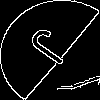J: (25, 25, 83, 74)
